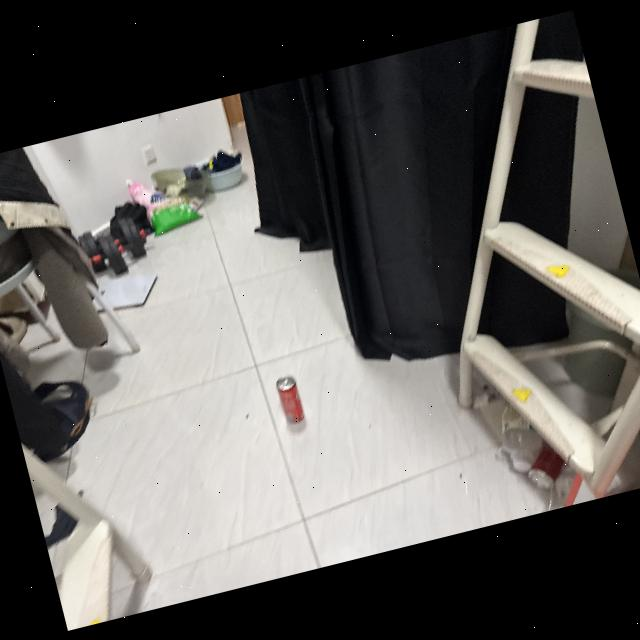Cola: (268, 368, 312, 432)
